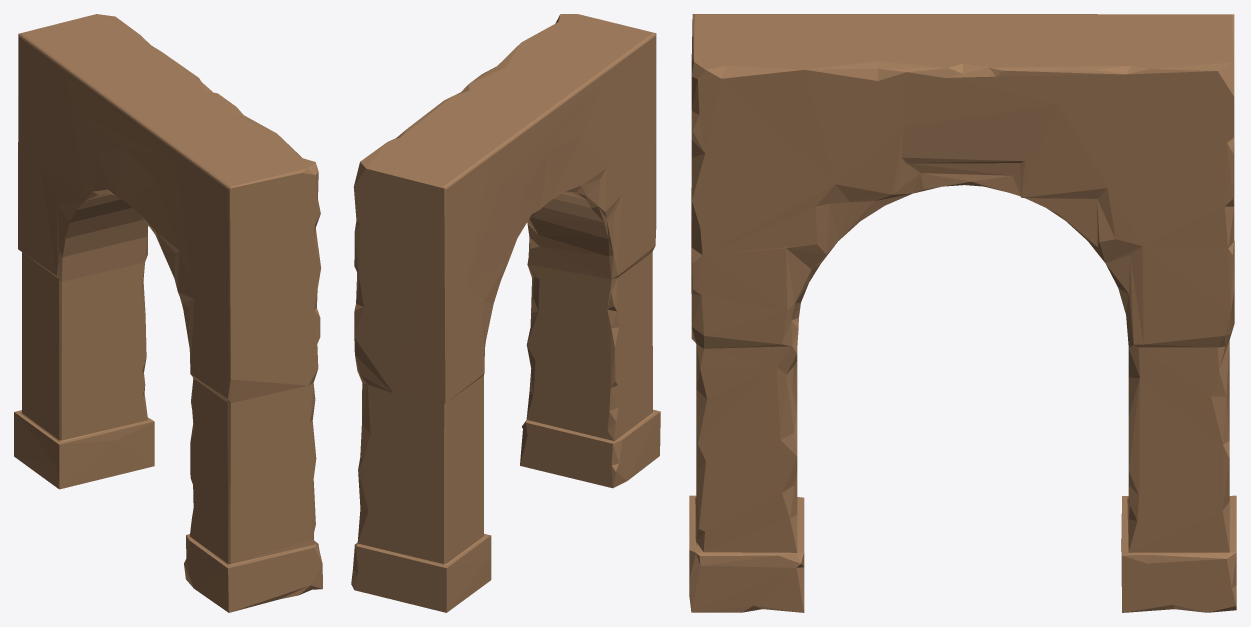
Rendered from SM_clay_arch_01.fbx.
3 views of the same model, side by side, from view 1: azimuth 30°, elevation 25°; view 2: azimuth 150°, elevation 25°; view 3: azimuth 270°, elevation 25° (orthographic). The views are drawn at different scales.
Visible parts, largest first — view 1: clay_arch_01; view 2: clay_arch_01; view 3: clay_arch_01.
Part boxes in pixels (bbox=[...]): clay_arch_01: bbox=[14, 14, 322, 612]; clay_arch_01: bbox=[351, 14, 660, 612]; clay_arch_01: bbox=[689, 14, 1236, 612].
Bounding box in the file's own units: 194 × 816 × 747.
